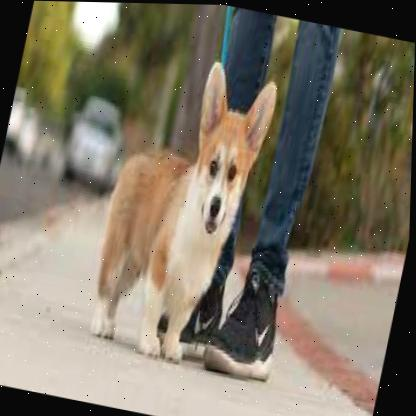dog: (79, 44, 283, 374)
